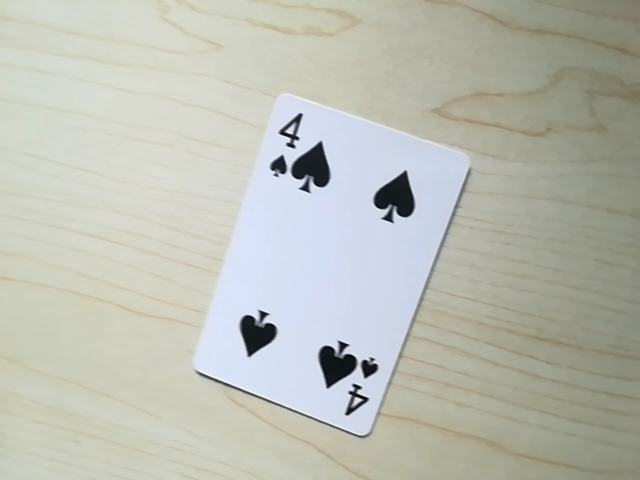ht 4: (261, 104, 312, 197), (329, 349, 379, 425)
